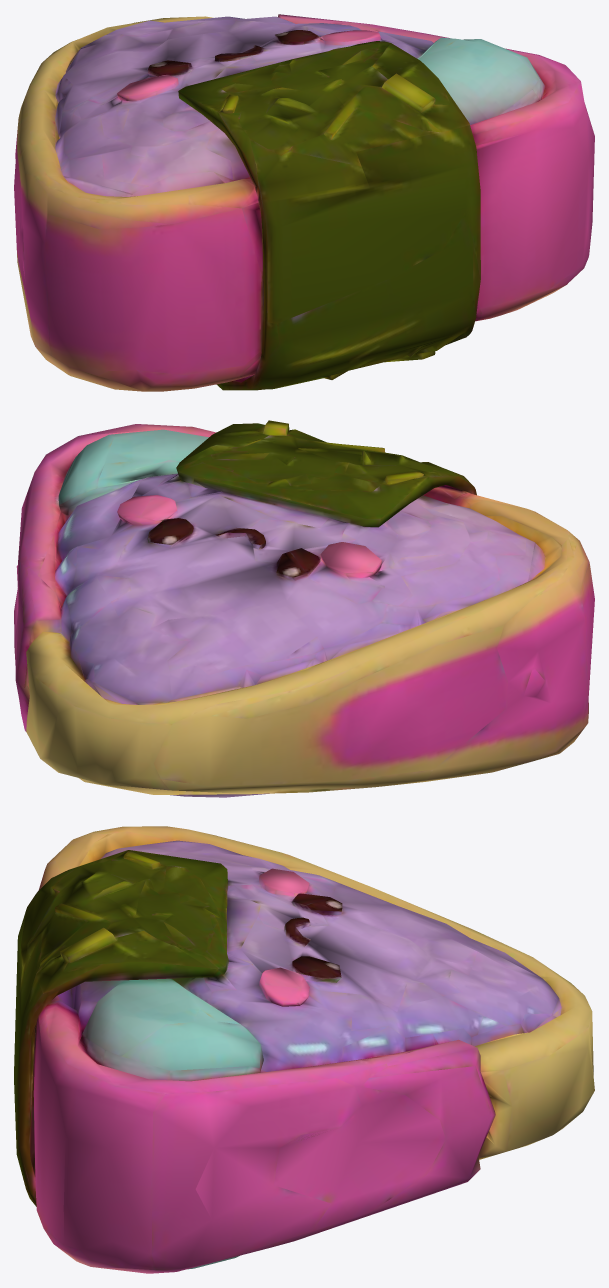
The picture shows the model from 3 angles, top to bottom: view 1: azimuth 30°, elevation 25°; view 2: azimuth 150°, elevation 25°; view 3: azimuth 270°, elevation 25°; orthographic projection. The views are drawn at different scales.
Visible parts, largest first — view 1: material; view 2: material; view 3: material.
Boxes of the visible parts, <box> form: material: <box>14,14,594,391</box>; material: <box>14,420,594,797</box>; material: <box>14,826,594,1273</box>.
Size of the model in its own units: 1 by 0.5047 by 0.8879.
Materials: 1 (1 with a texture image).
